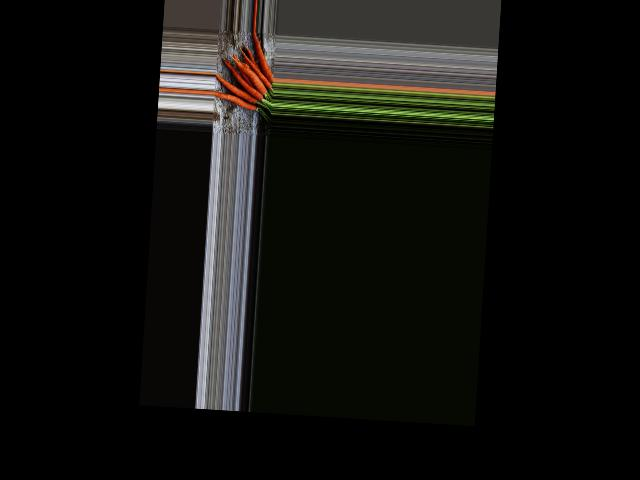carrot: (247, 32, 276, 86)
